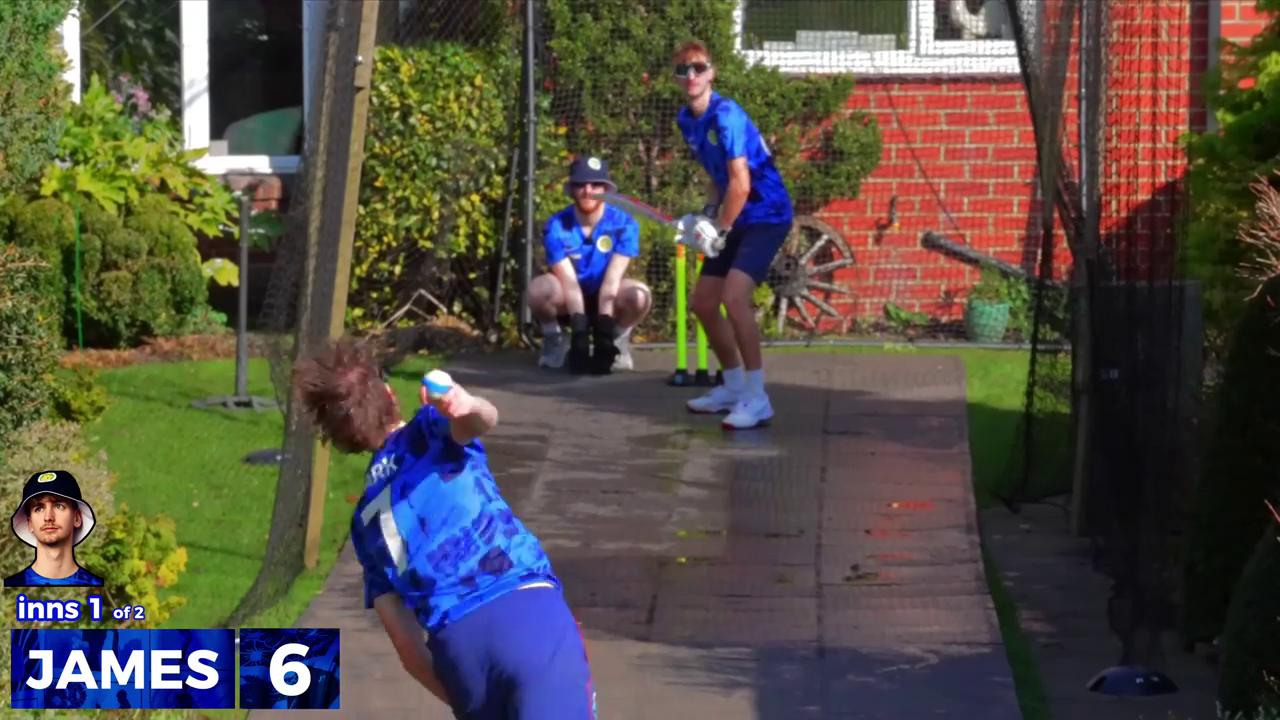ball: (417, 363, 458, 405)
